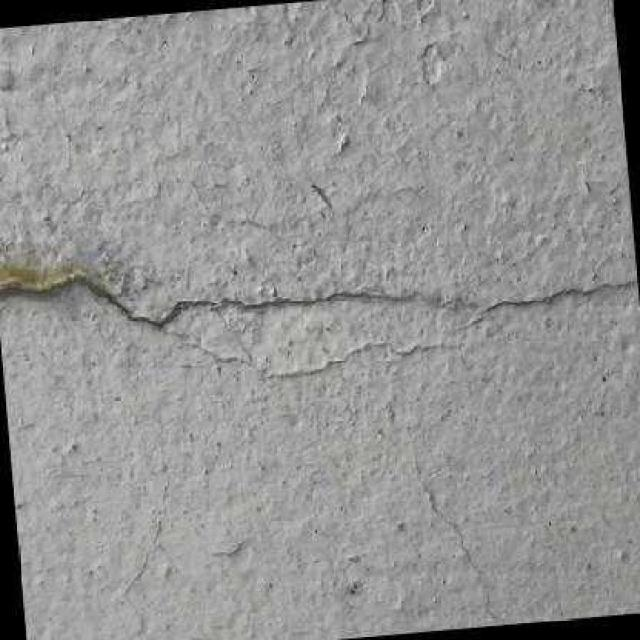D00: (0, 274, 412, 329), (405, 451, 515, 626), (467, 276, 638, 325)
